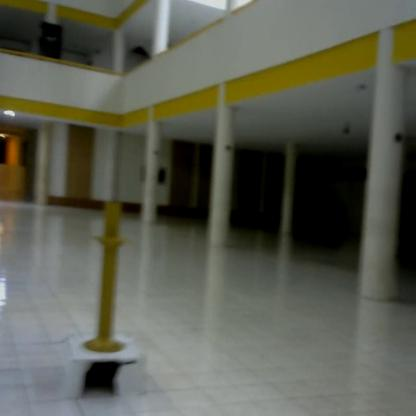pole: (82, 197, 137, 356)
